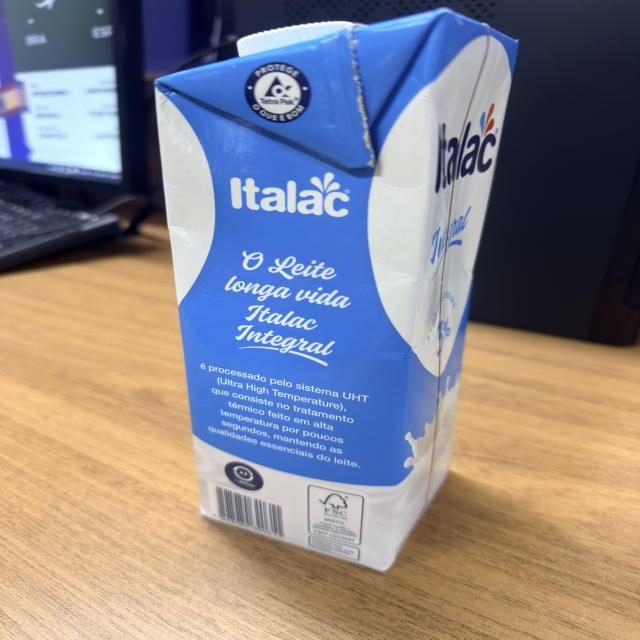Caixa de Leite: (156, 9, 520, 574)
